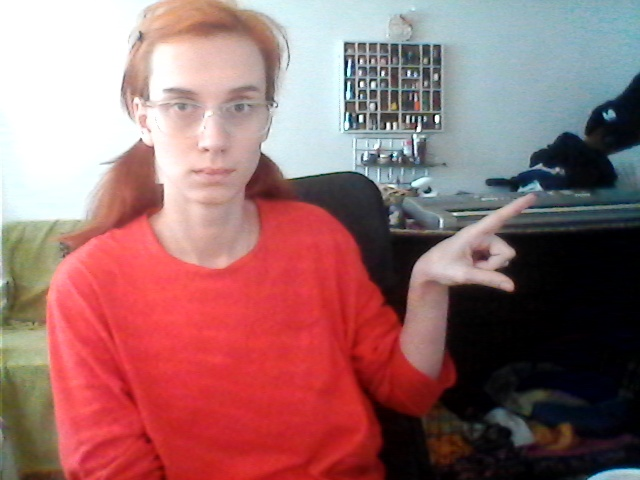on: (376, 190, 549, 415)
